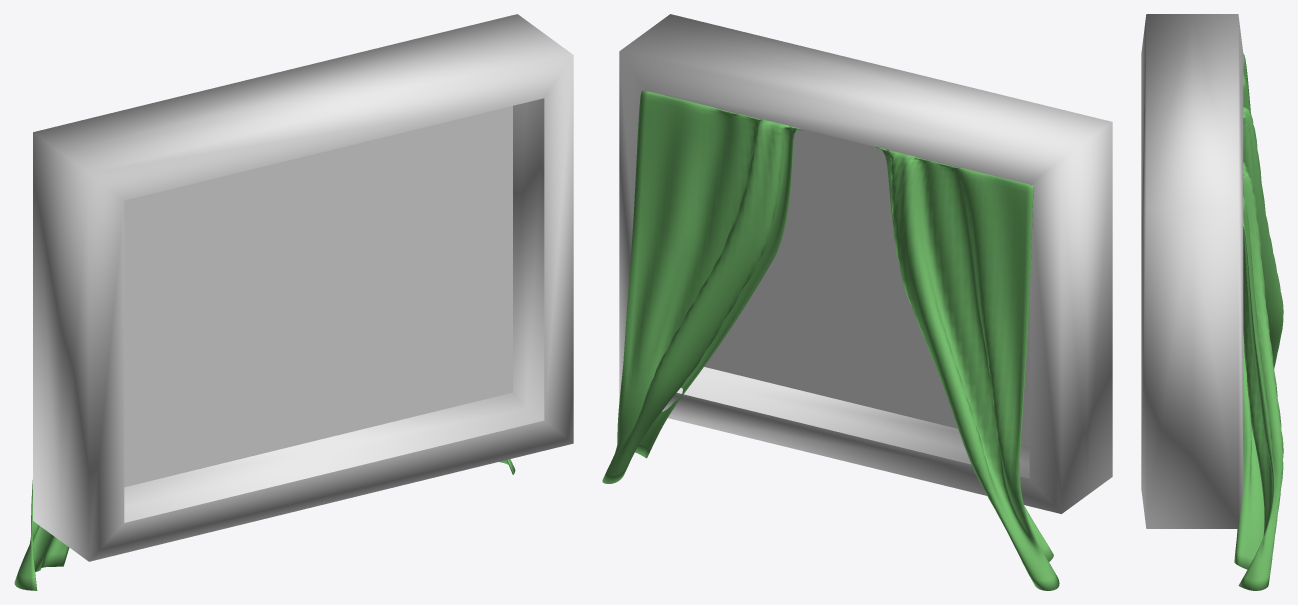
File: Window.fbx
3 renders of one model, left to right at view 1: azimuth 30°, elevation 25°; view 2: azimuth 150°, elevation 25°; view 3: azimuth 270°, elevation 25°, orthographic. The views are drawn at different scales.
Parts seen in each view (by area): view 1: Window, Curtains; view 2: Window, Curtains; view 3: Window, Curtains.
Part boxes in pixels (x1=…): Window: x1=33, y1=14, x2=573, y2=561; Curtains: x1=14, y1=459, x2=515, y2=590; Window: x1=619, y1=14, x2=1112, y2=513; Curtains: x1=602, y1=90, x2=1059, y2=590; Window: x1=1141, y1=14, x2=1243, y2=528; Curtains: x1=1234, y1=54, x2=1283, y2=590.
Bounding box in the file's own units: 461 × 410 × 139.
